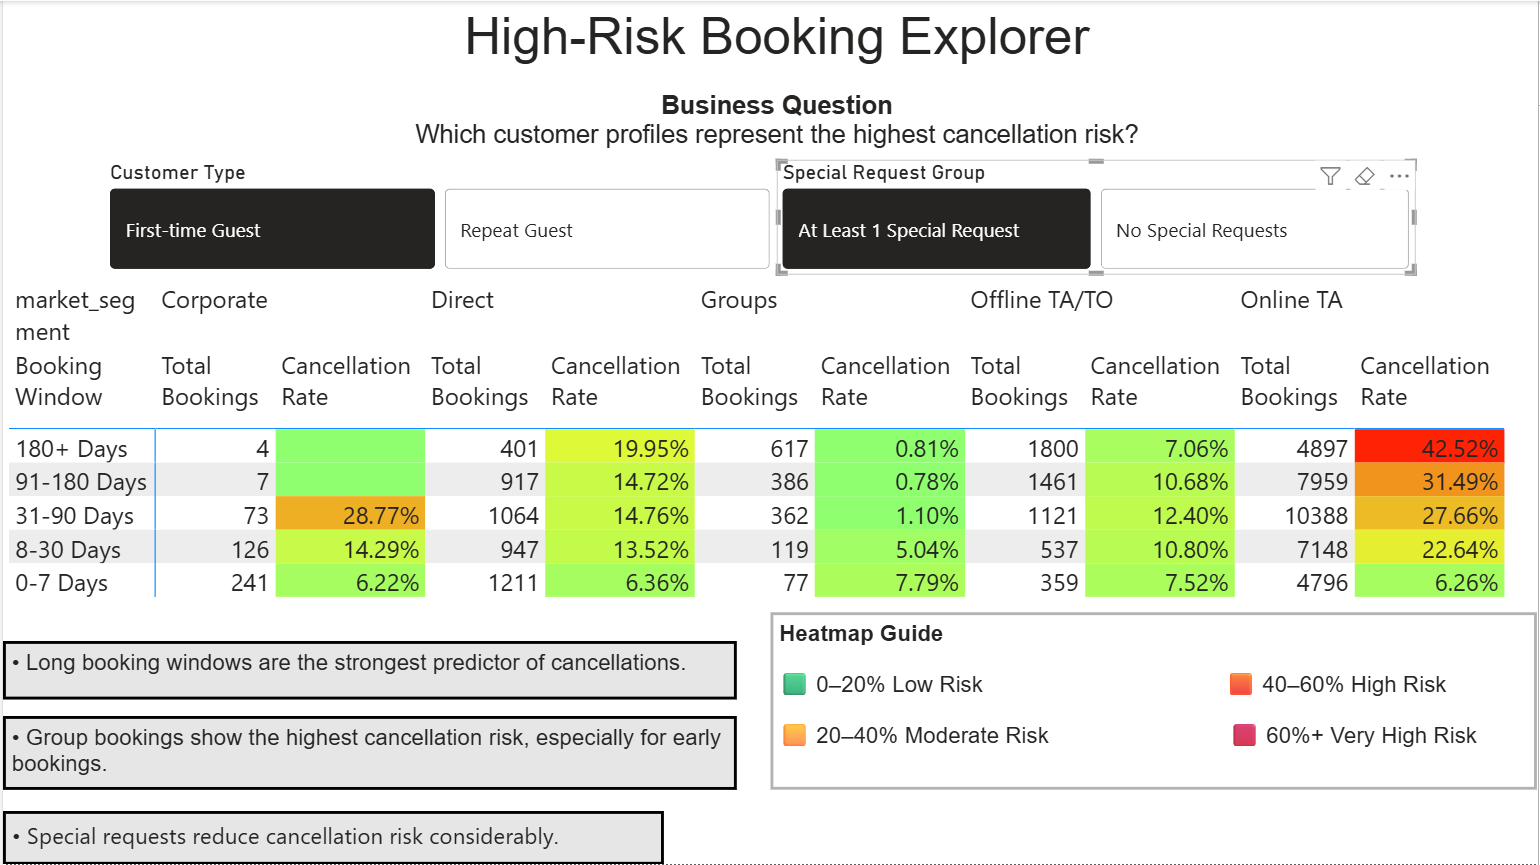

Layout of this report page (visuals, bound fields, positions):
{"tool":"powerbi","page":{"name":"Page 4","canvas":[1280,720],"ordinal":3},"visuals":[{"type":"textbox","box":[10,0,1270,70],"z":0},{"type":"textbox","box":[10,70,1270,61.4],"z":1000},{"type":"pivotTable","fields":{"Rows":["hotel_bookings_cleaned.Booking Window"],"Columns":["hotel_bookings_cleaned.market_segment"],"Values":["hotel_bookings_cleaned.Total Bookings","hotel_bookings_cleaned.Cancellation Rate"]},"box":[0,228.7,1280.2,294.7],"z":2000},{"type":"advancedSlicerVisual","fields":{"Values":["hotel_bookings_cleaned.Customer Type"]},"box":[84.2,132,561,96.7],"z":3000},{"type":"advancedSlicerVisual","fields":{"Values":["hotel_bookings_cleaned.Special Request Group"]},"box":[645.2,132,532.6,96.7],"z":4000},{"type":"textbox","box":[0,533.6,611.7,48.5],"z":5000},{"type":"textbox","box":[0,596.3,611.7,61.5],"z":6000},{"type":"textbox","box":[0,675.6,551.4,45],"z":7000},{"type":"textbox","box":[640.1,510,638.9,147.9],"z":8000}]}

Visuals, with their boxes in screenshot pixels (x1, y1, x2, y2), scaled from the page's 1280x720 canvas onto the 1540x865 screenshot:
textbox: [12, 0, 1539, 84]
textbox: [12, 84, 1539, 158]
pivotTable - hotel_bookings_cleaned.Booking Window x hotel_bookings_cleaned.market_segment: [0, 275, 1539, 629]
advancedSlicerVisual - hotel_bookings_cleaned.Customer Type: [101, 159, 776, 275]
advancedSlicerVisual - hotel_bookings_cleaned.Special Request Group: [776, 159, 1417, 275]
textbox: [0, 641, 736, 699]
textbox: [0, 716, 736, 790]
textbox: [0, 812, 663, 864]
textbox: [770, 613, 1539, 790]
